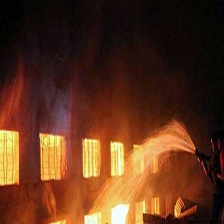fire: (81, 135, 126, 181), (105, 205, 128, 224), (81, 210, 104, 224)
